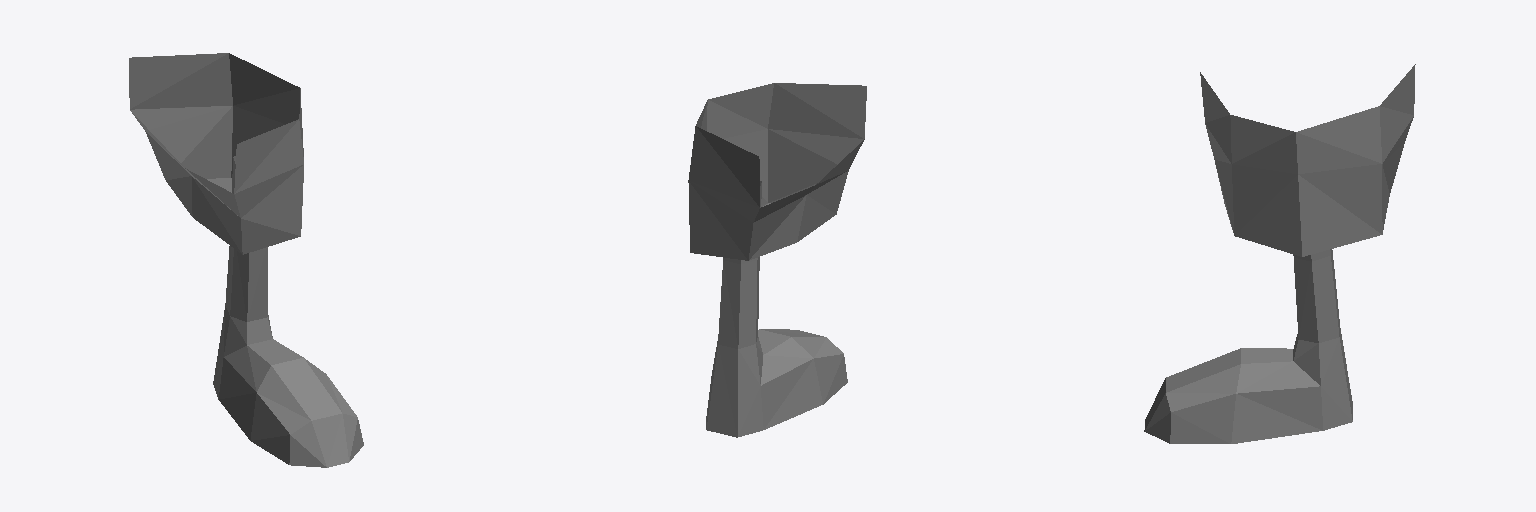
File: phineas_piernaI.obj
3 views of the same model, side by side, from view 1: azimuth 30°, elevation 25°; view 2: azimuth 150°, elevation 25°; view 3: azimuth 270°, elevation 25° (orthographic).
Visible parts, largest first — view 1: Phineas_Pierna_Izq; view 2: Phineas_Pierna_Izq; view 3: Phineas_Pierna_Izq.
Boxes of the visible parts, box(x1,y1,x2,y2) form: Phineas_Pierna_Izq: box(129, 53, 363, 467); Phineas_Pierna_Izq: box(688, 83, 866, 437); Phineas_Pierna_Izq: box(1144, 64, 1415, 443).
Size of the model in its own units: 0.1455 by 0.383 by 0.2883.